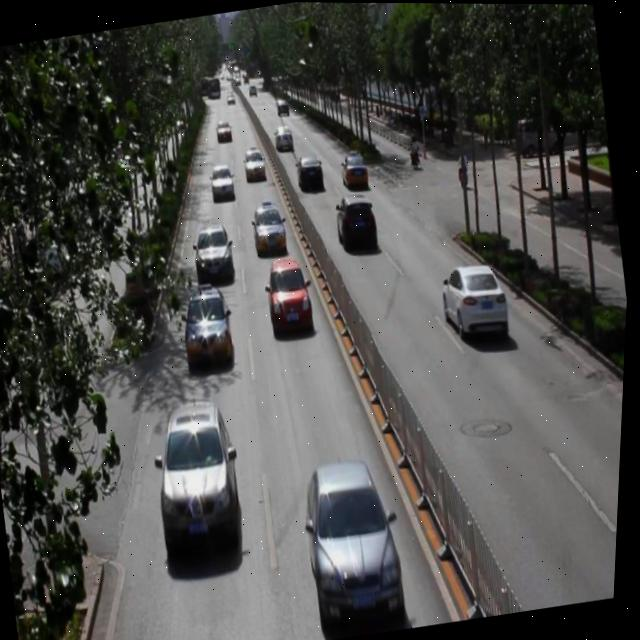car: (299, 453, 415, 626), (149, 395, 255, 562), (438, 257, 514, 345), (179, 282, 242, 370), (265, 255, 318, 336), (331, 191, 382, 256), (190, 223, 239, 286), (252, 198, 291, 258), (294, 150, 329, 194), (339, 151, 371, 191), (241, 143, 270, 187), (208, 161, 237, 204), (273, 121, 297, 153)
